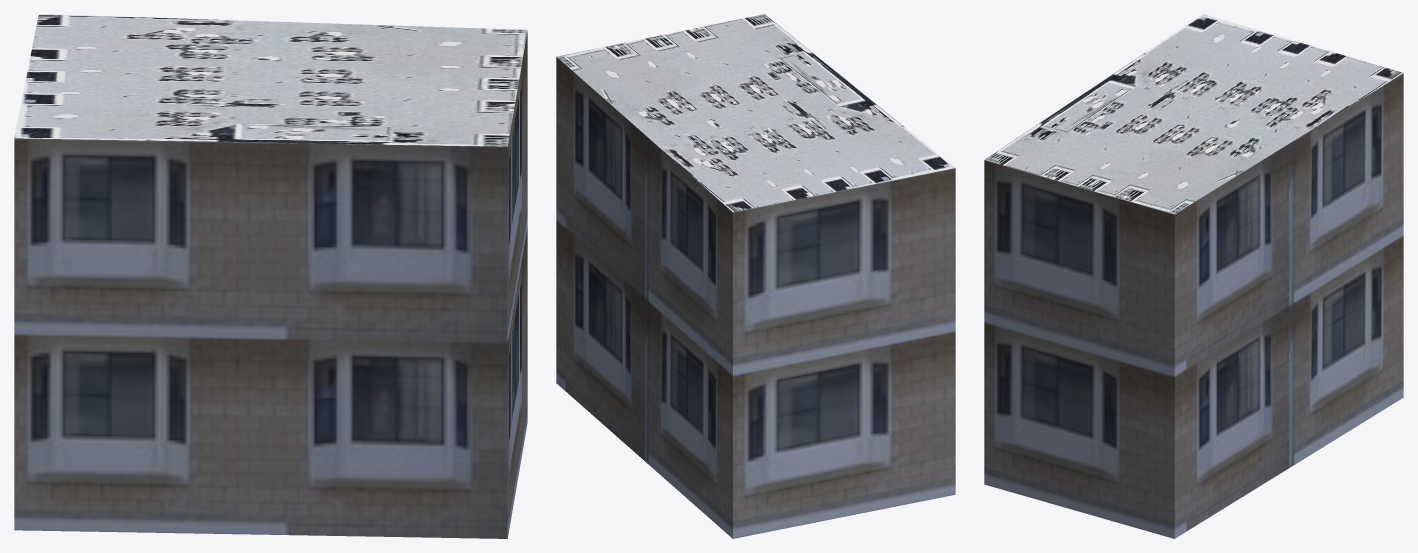
File: ResTex__4227.fbx
The picture shows the model from 3 angles, left to right: view 1: azimuth 30°, elevation 25°; view 2: azimuth 150°, elevation 25°; view 3: azimuth 270°, elevation 25°; orthographic projection. The views are drawn at different scales.
Parts seen in each view (by area): view 1: CityEngineMaterial_3_m, CityEngineMaterial_m; view 2: CityEngineMaterial_3_m, CityEngineMaterial_m; view 3: CityEngineMaterial_3_m, CityEngineMaterial_m.
Boxes of the visible parts, x1=… form: CityEngineMaterial_3_m: x1=14, y1=31, x2=527, y2=538; CityEngineMaterial_m: x1=14, y1=14, x2=527, y2=146; CityEngineMaterial_3_m: x1=556, y1=57, x2=955, y2=538; CityEngineMaterial_m: x1=557, y1=14, x2=954, y2=212; CityEngineMaterial_3_m: x1=984, y1=73, x2=1403, y2=538; CityEngineMaterial_m: x1=984, y1=14, x2=1402, y2=214.
Size of the model in its own units: 7.95 by 6 by 7.03.
2 materials, 2 textured.
